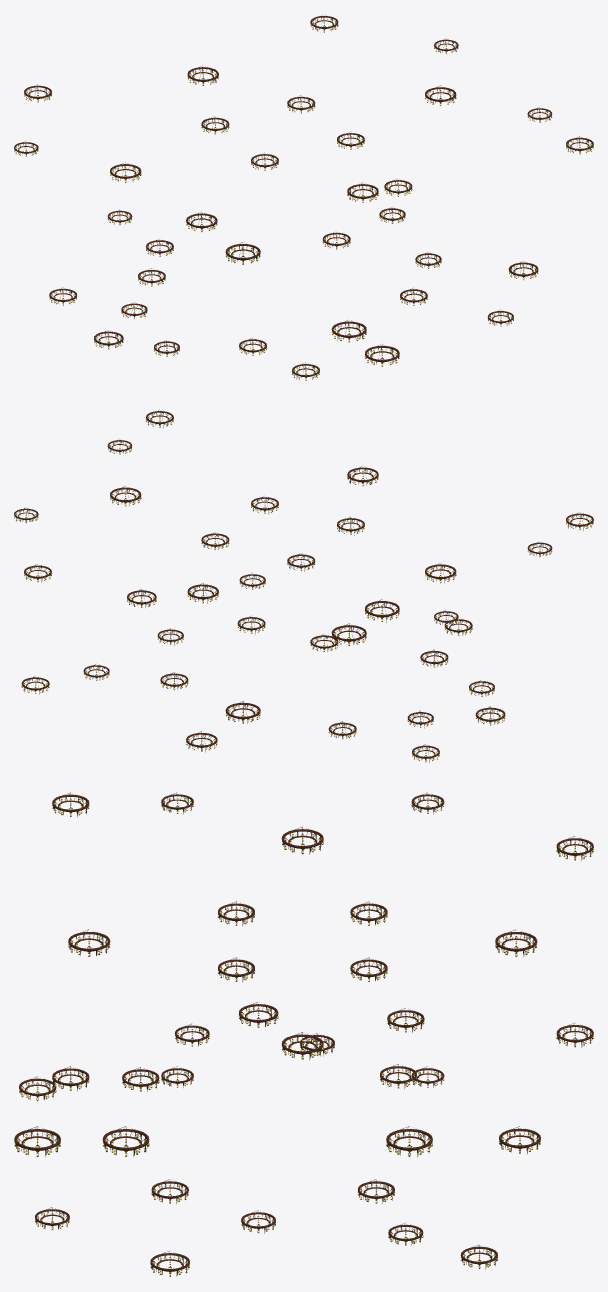
Rendered from mg_sp_lantern_ring.glb.
The picture shows the model from 3 angles, top to bottom: view 1: azimuth 30°, elevation 25°; view 2: azimuth 150°, elevation 25°; view 3: azimuth 270°, elevation 25°; orthographic projection. The views are drawn at different scales.
Parts seen in each view (by area): view 1: mg_sp_lantern_ring; view 2: mg_sp_lantern_ring; view 3: mg_sp_lantern_ring.
Boxes of the visible parts, x1,y1,x2,y2 form: mg_sp_lantern_ring: (14,14,593,380); mg_sp_lantern_ring: (14,409,593,762); mg_sp_lantern_ring: (14,792,593,1276).
Size of the model in its own units: 93.07 by 33.44 by 78.77.
Materials: 4 (3 with a texture image).
